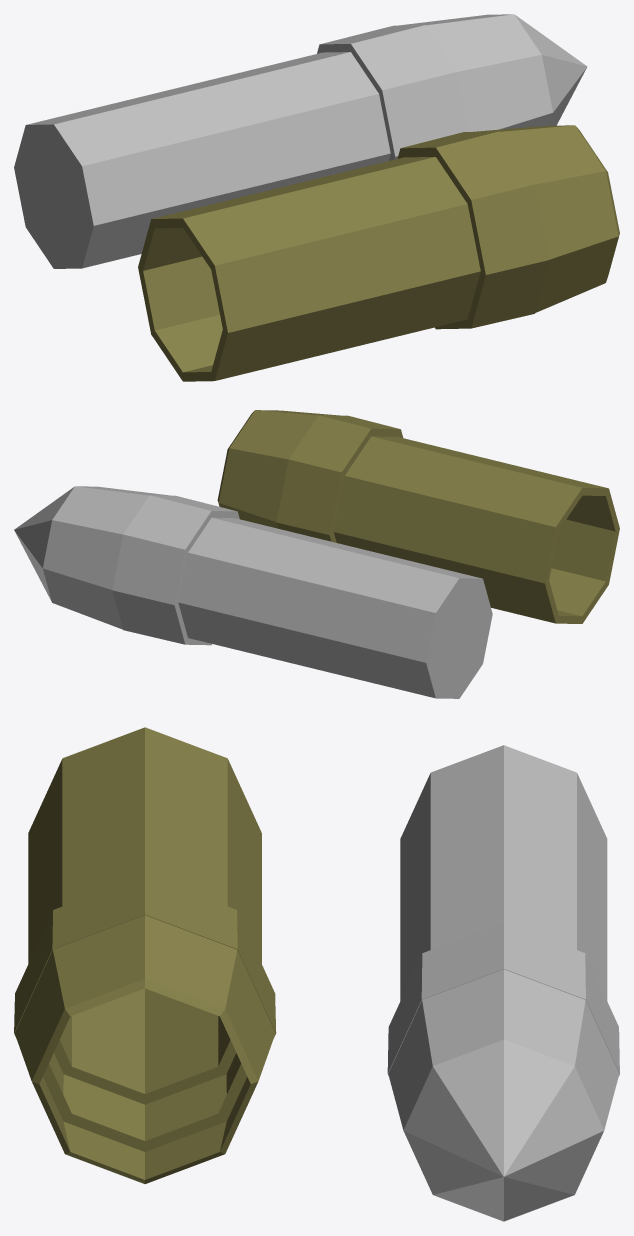
Rendered from bulletsandCasings.fbx.
3 renders of one model, top to bottom at view 1: azimuth 30°, elevation 25°; view 2: azimuth 150°, elevation 25°; view 3: azimuth 270°, elevation 25°, orthographic. The views are drawn at different scales.
Parts seen in each view (by area): view 1: polySurface5, pCylinder11; view 2: pCylinder11, polySurface5; view 3: polySurface5, pCylinder11.
Boxes of the visible parts, bbox=[...] form: polySurface5: bbox=[138, 125, 619, 381]; pCylinder11: bbox=[14, 14, 587, 268]; pCylinder11: bbox=[14, 486, 492, 698]; polySurface5: bbox=[217, 410, 619, 623]; polySurface5: bbox=[14, 727, 276, 1183]; pCylinder11: bbox=[387, 745, 619, 1221].
Bounding box in the file's own units: 1.16 × 0.3752 × 0.8672.
